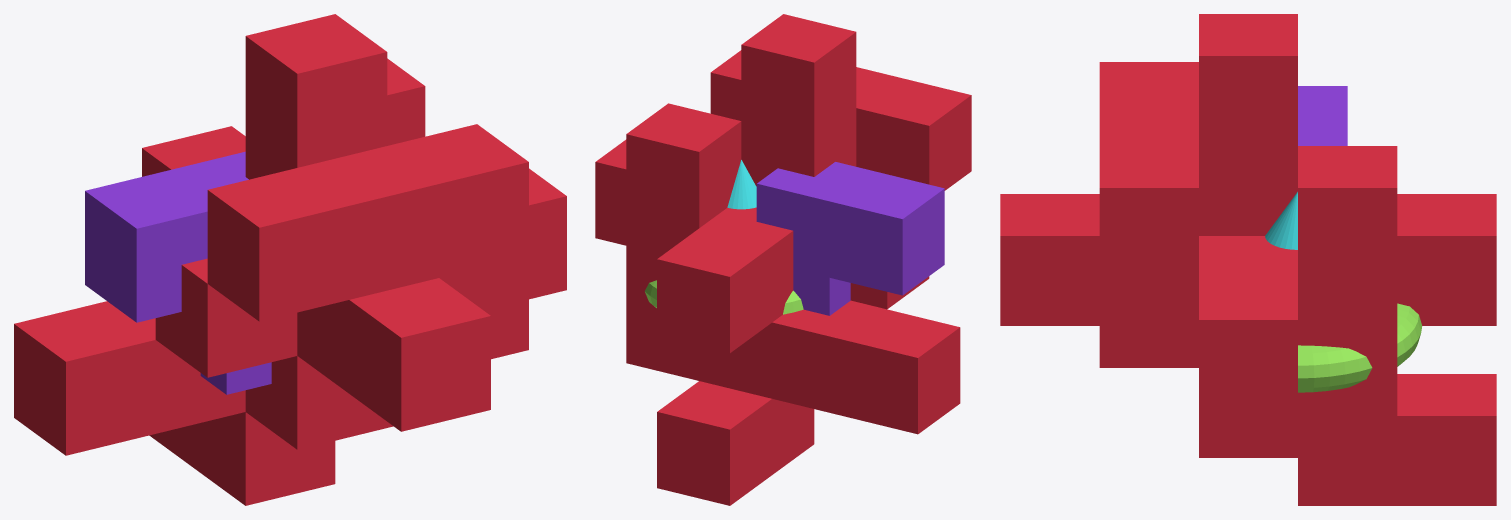
3 renders of one model, left to right at view 1: azimuth 30°, elevation 25°; view 2: azimuth 150°, elevation 25°; view 3: azimuth 270°, elevation 25°, orthographic. The views are drawn at different scales.
Visible parts, largest first — view 1: Random, Cube; view 2: Random, Cube, Cone, Torus; view 3: Random, Torus, Cube, Cone.
Boxes of the visible parts, left/top/right/bottom form: Random: left=14, top=14, right=566, bottom=505; Cube: left=85, top=151, right=271, bottom=394; Random: left=595, top=14, right=971, bottom=505; Cube: left=756, top=162, right=944, bottom=315; Cone: left=727, top=160, right=756, bottom=209; Torus: left=644, top=280, right=803, bottom=314; Random: left=1000, top=14, right=1496, bottom=505; Torus: left=1298, top=303, right=1422, bottom=392; Cube: left=1298, top=86, right=1347, bottom=145; Cone: left=1265, top=191, right=1297, bottom=249.
Size of the model in its own units: 500 by 500 by 500.
